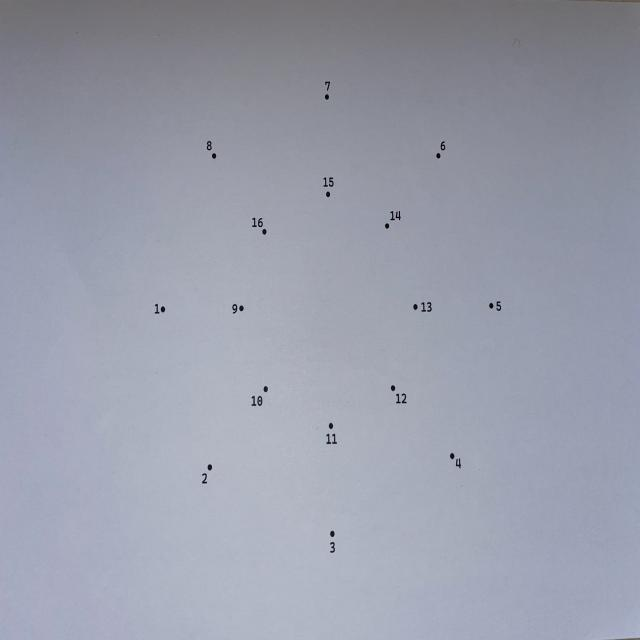Dot: (390, 385, 396, 391), (329, 422, 333, 430), (436, 152, 441, 158), (413, 304, 418, 310), (489, 302, 494, 308), (450, 453, 455, 459), (330, 531, 335, 537), (263, 386, 268, 392), (239, 306, 244, 312), (262, 229, 267, 235), (161, 306, 165, 313), (212, 153, 216, 159), (325, 94, 329, 100), (326, 192, 330, 198), (385, 223, 389, 229), (208, 464, 212, 470)
DotNumber: (390, 385, 408, 404), (385, 210, 401, 230), (252, 386, 268, 406), (252, 217, 267, 235), (326, 422, 337, 444), (323, 177, 334, 198), (202, 464, 212, 484), (450, 453, 462, 469), (413, 302, 432, 312), (207, 141, 217, 159), (436, 141, 446, 159), (154, 303, 166, 314), (489, 301, 501, 311), (232, 304, 244, 314), (330, 530, 335, 553), (325, 81, 330, 100)
Number: (396, 393, 407, 404), (323, 177, 334, 187), (390, 210, 401, 220), (421, 302, 432, 312), (326, 434, 337, 444), (252, 218, 263, 228), (252, 396, 262, 406), (154, 303, 160, 314), (440, 141, 446, 151), (496, 301, 502, 311), (202, 472, 207, 484), (232, 304, 238, 314), (456, 458, 461, 469), (207, 140, 212, 150), (330, 542, 335, 552), (326, 81, 330, 91)
